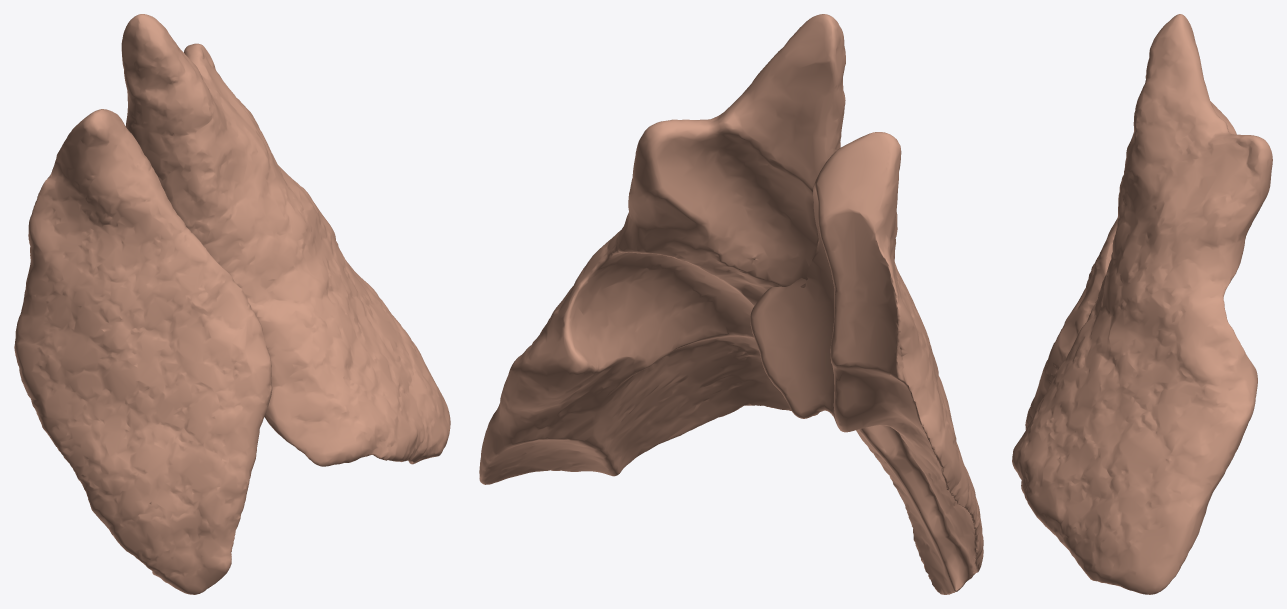
File: explorar-thymus.glb
The picture shows the model from 3 angles, left to right: view 1: azimuth 30°, elevation 25°; view 2: azimuth 150°, elevation 25°; view 3: azimuth 270°, elevation 25°; orthographic projection. The views are drawn at different scales.
Parts seen in each view (by area): view 1: thymus__lobulo_derecho, thymus__lobulo_izquierdo; view 2: thymus__lobulo_izquierdo, thymus__lobulo_derecho; view 3: thymus__lobulo_izquierdo, thymus__lobulo_derecho.
Boxes of the visible parts, x1,y1,x2,y2 form: thymus__lobulo_derecho: [14, 109, 272, 594]; thymus__lobulo_izquierdo: [121, 14, 450, 466]; thymus__lobulo_izquierdo: [479, 14, 845, 484]; thymus__lobulo_derecho: [750, 132, 983, 594]; thymus__lobulo_izquierdo: [1012, 14, 1272, 594]; thymus__lobulo_derecho: [1021, 101, 1236, 493].
Size of the model in its own units: 0.0965 by 0.1193 by 0.0566.
